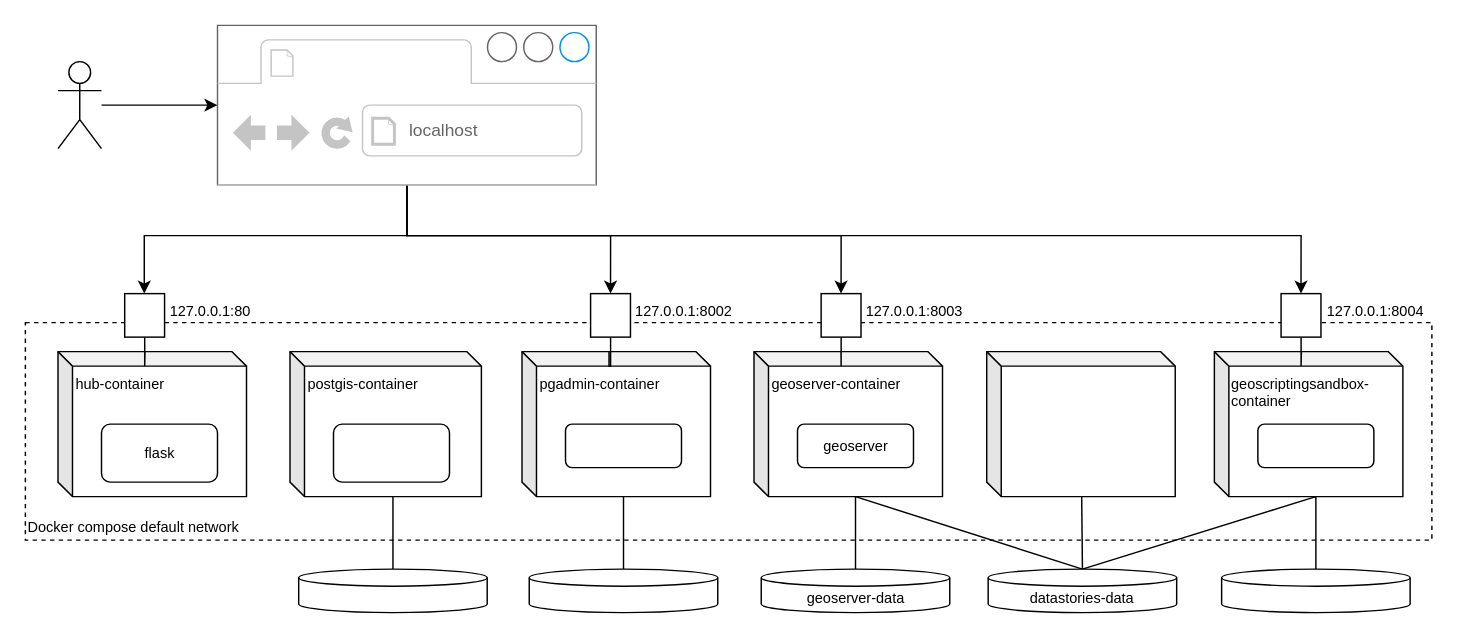
Image size: 1457x638. Some labels were removed from this diagram. Here are the shapes that lost their labels. From the top down, the centre of each, then its label:
At (79,104): "User".
At (1080,423): "datastories-container".
At (391,452): "postgis".
At (623,445): "pgadmin".
At (1315,445): "jupyterlab".
At (392,590): "postgis-data".
At (623,590): "pgadmin-data".
At (1315,590): "geoscriptingsandbox-data".
